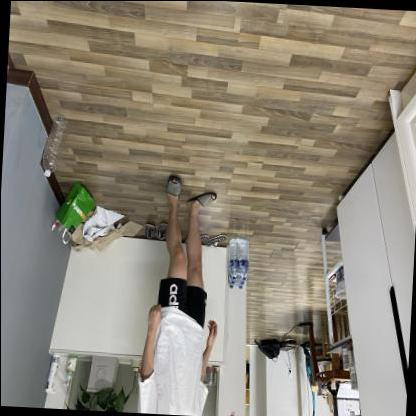no_safety-shoe: (149, 166, 184, 210), (183, 185, 223, 217)
